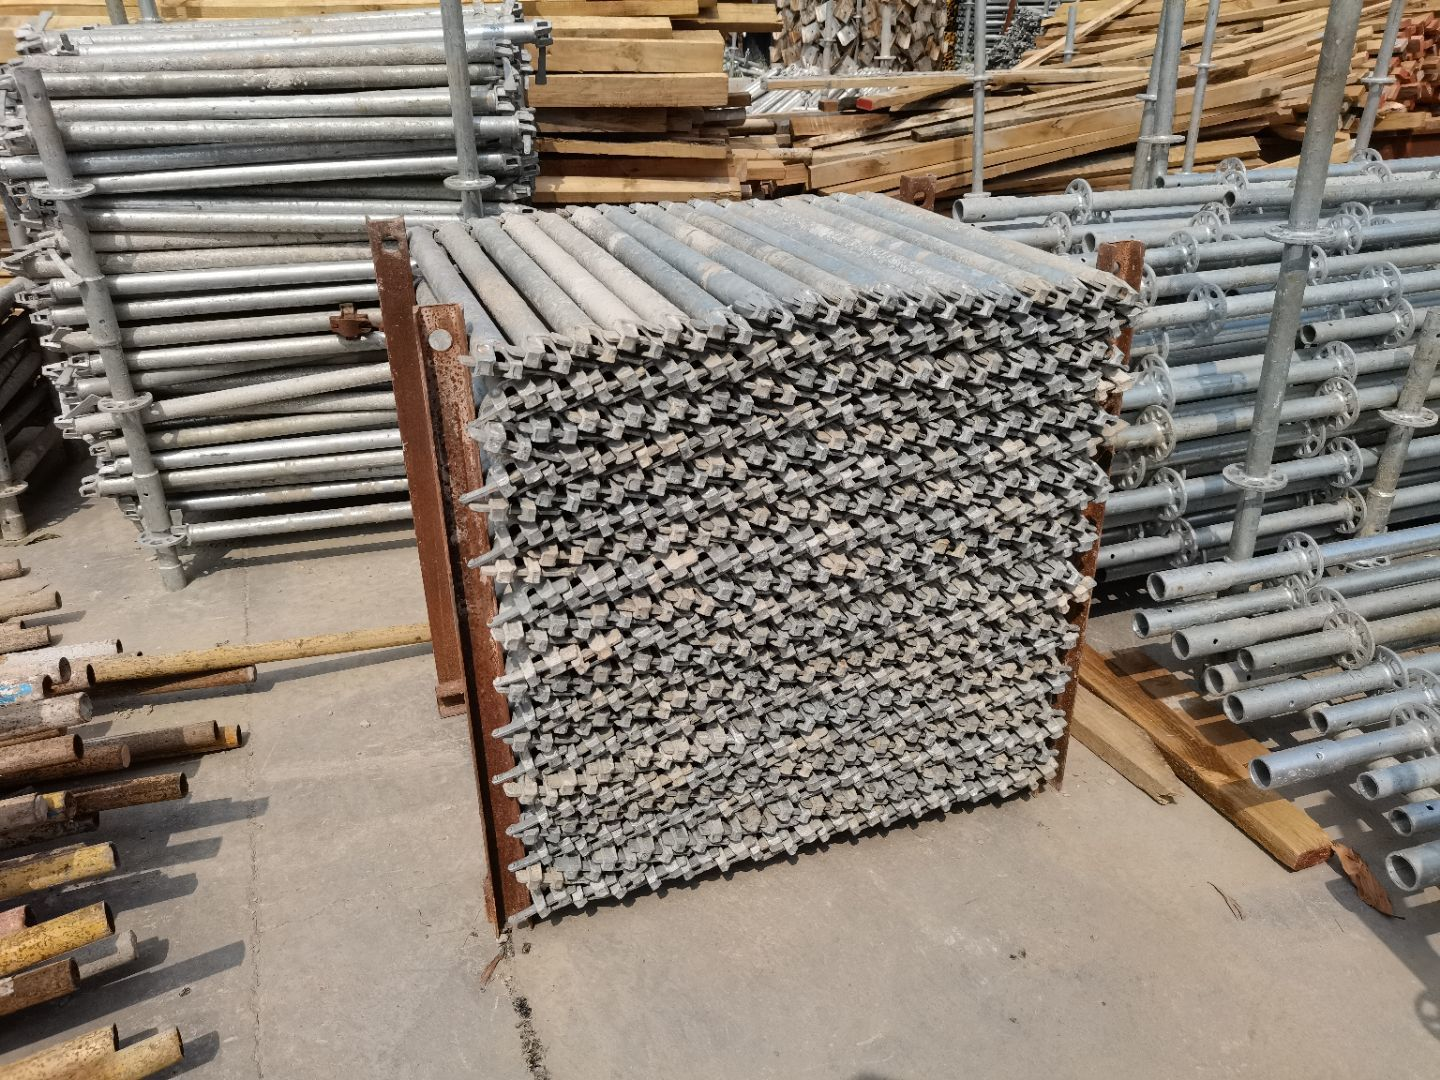rebar: (7, 490, 231, 1080)
scaffold: (427, 216, 1117, 919), (986, 174, 1440, 910), (2, 22, 530, 587)
wood: (821, 1, 1440, 189), (541, 2, 791, 199), (540, 9, 774, 206)
